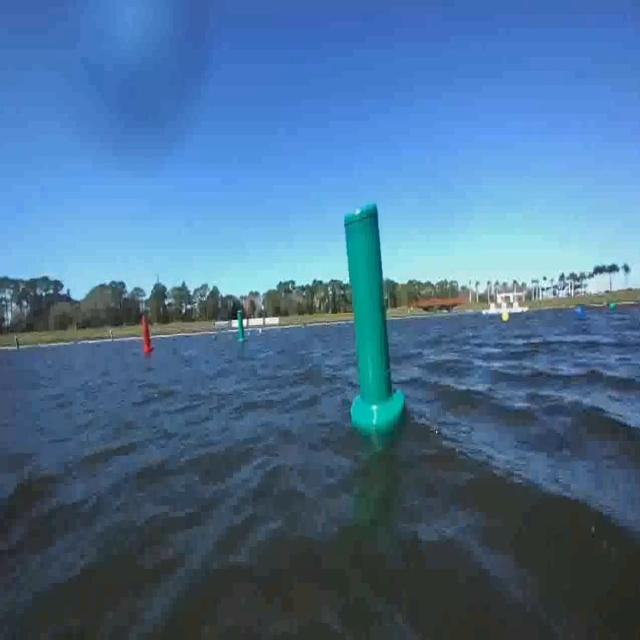blue-buoy: (574, 303, 586, 320)
green-buoy: (609, 302, 616, 314)
green-column-buoy: (343, 199, 405, 429), (236, 313, 248, 344)
red-column-buoy: (141, 319, 153, 356)
yellow-buoy: (501, 311, 508, 324)
